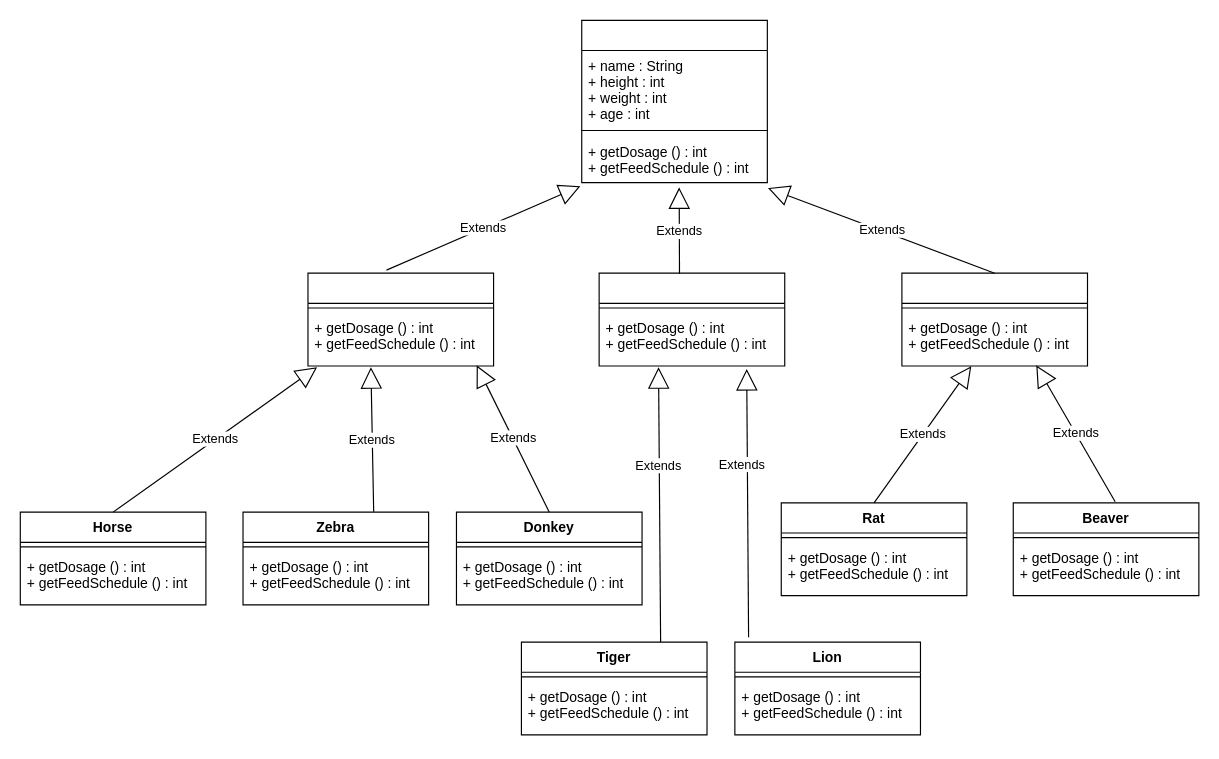
This 1219x759 diagram has some shape labels left out. Here are the shapes that lost their labels. From the top down, the box of each, then its label:
(581, 19, 767, 183): Animals
(307, 272, 494, 366): Horses
(598, 272, 785, 366): Felines
(901, 272, 1088, 366): Rodents
